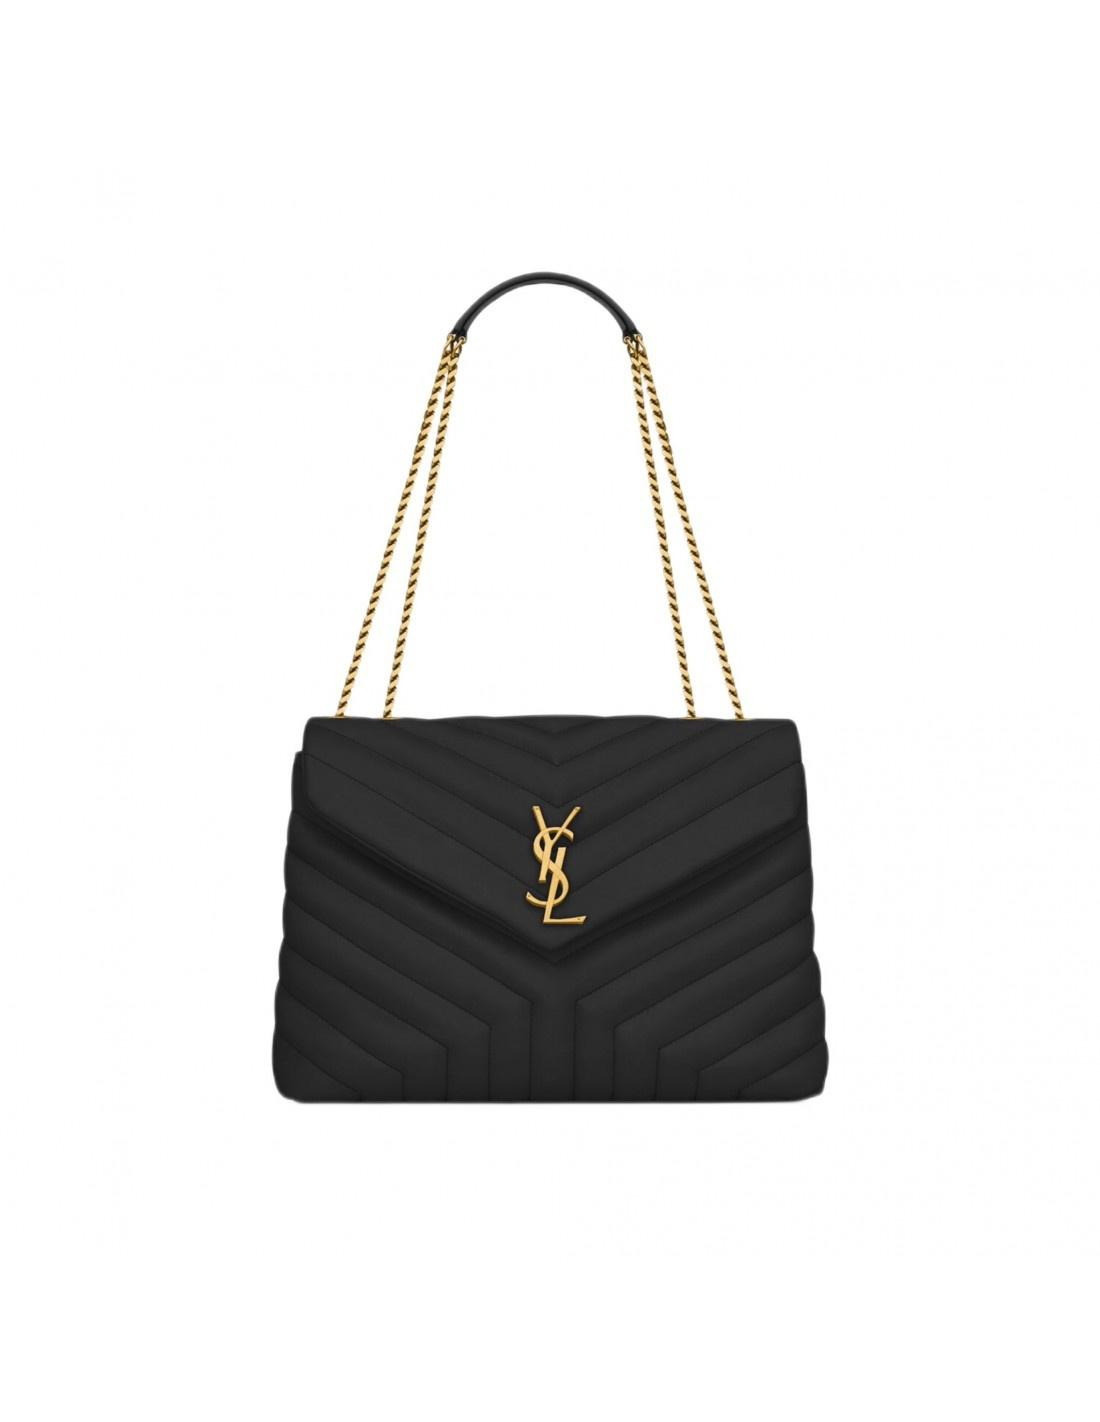YVES-SAINT-LAURENT: (525, 806, 586, 925)
